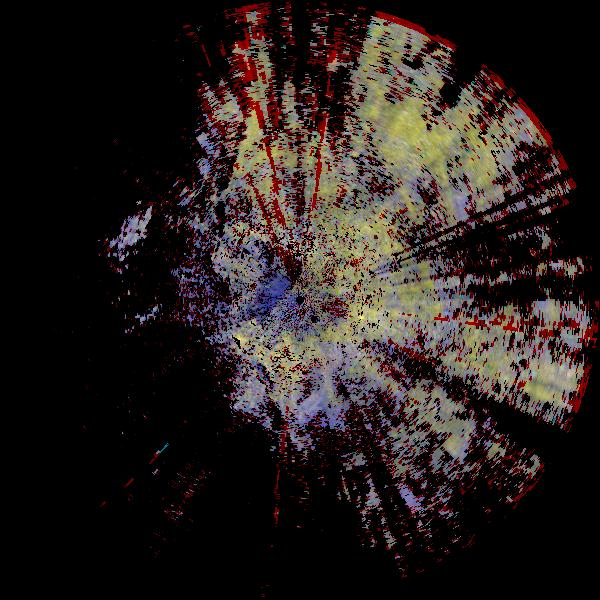roost: (252, 328, 351, 427)
